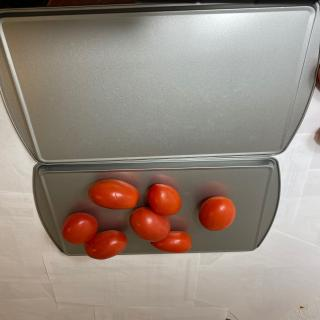Tomato: (88, 179, 140, 209), (129, 206, 171, 242), (198, 196, 236, 231), (84, 230, 128, 260), (62, 212, 98, 245), (147, 183, 182, 216), (150, 231, 192, 253)
